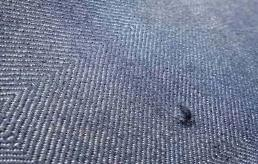knot: (172, 105, 197, 128)
